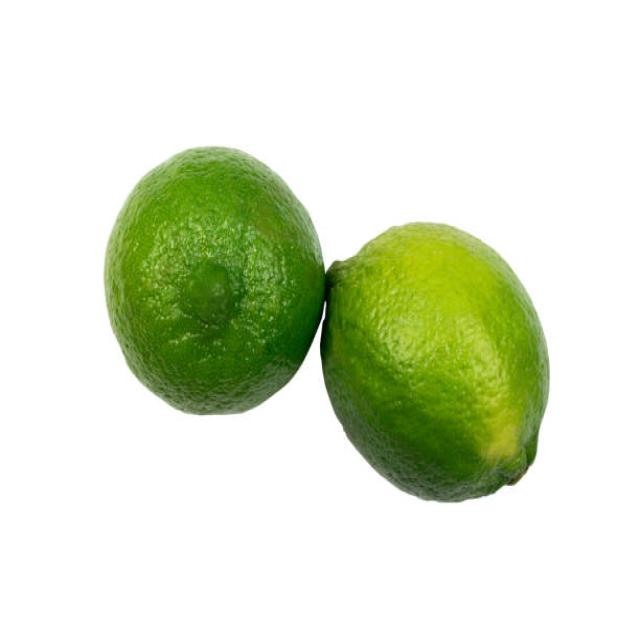Unripe: (319, 219, 550, 502), (102, 144, 326, 417)
